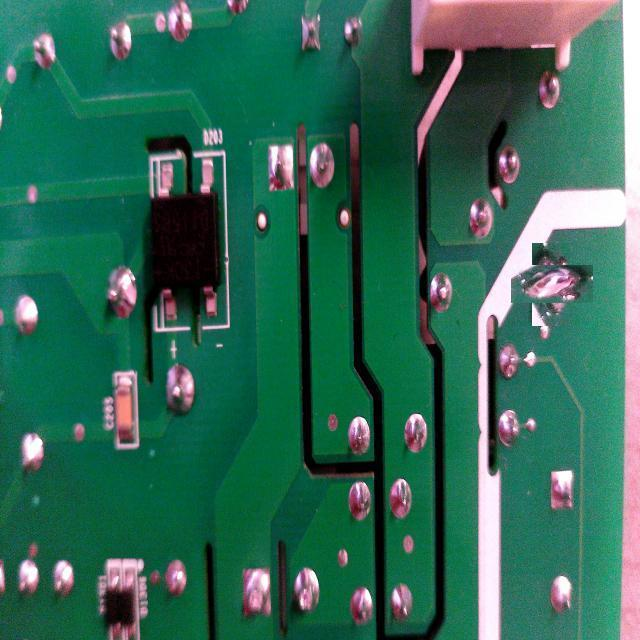Short_circuit: (521, 254, 582, 315)
